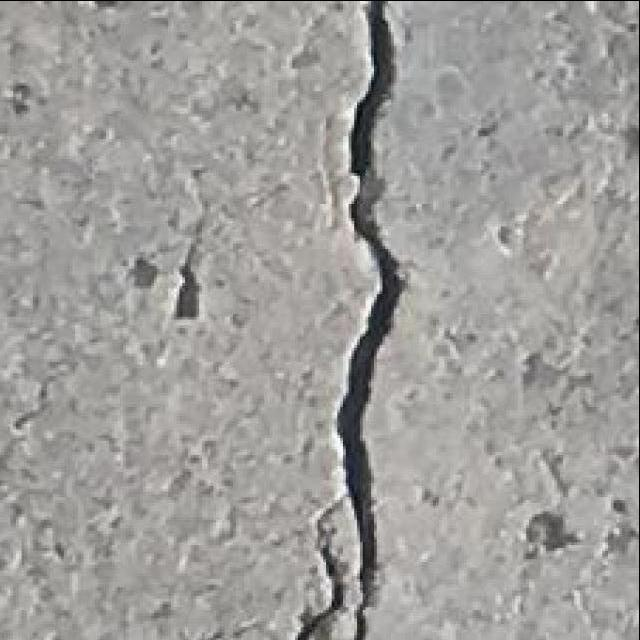crack: (322, 4, 420, 640)
